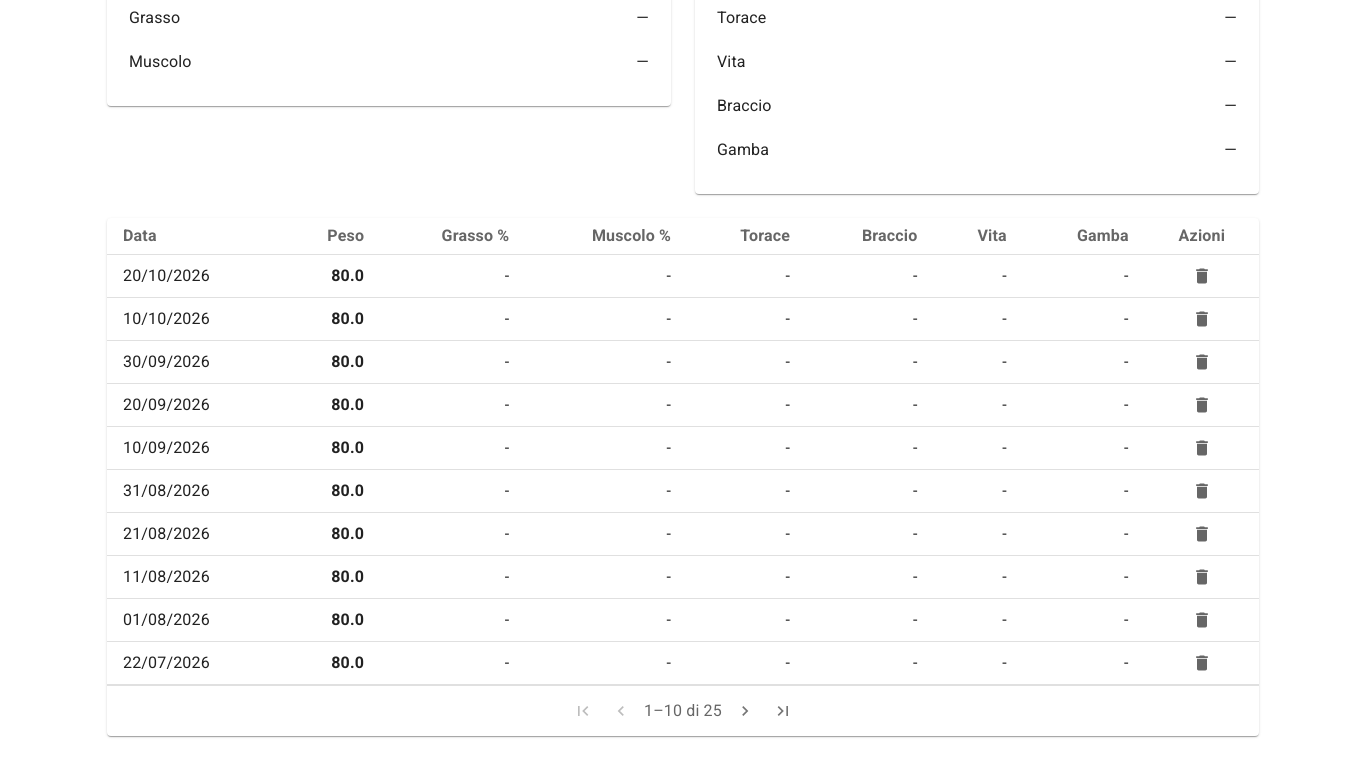
Test: storico a pagine › successive, ultima pagina e prima pagina
The image size is (1366, 768).
(page scrolled)
Click the button named "Pagina successiva".
click(745, 711)  # box 730,696 -> 760,726
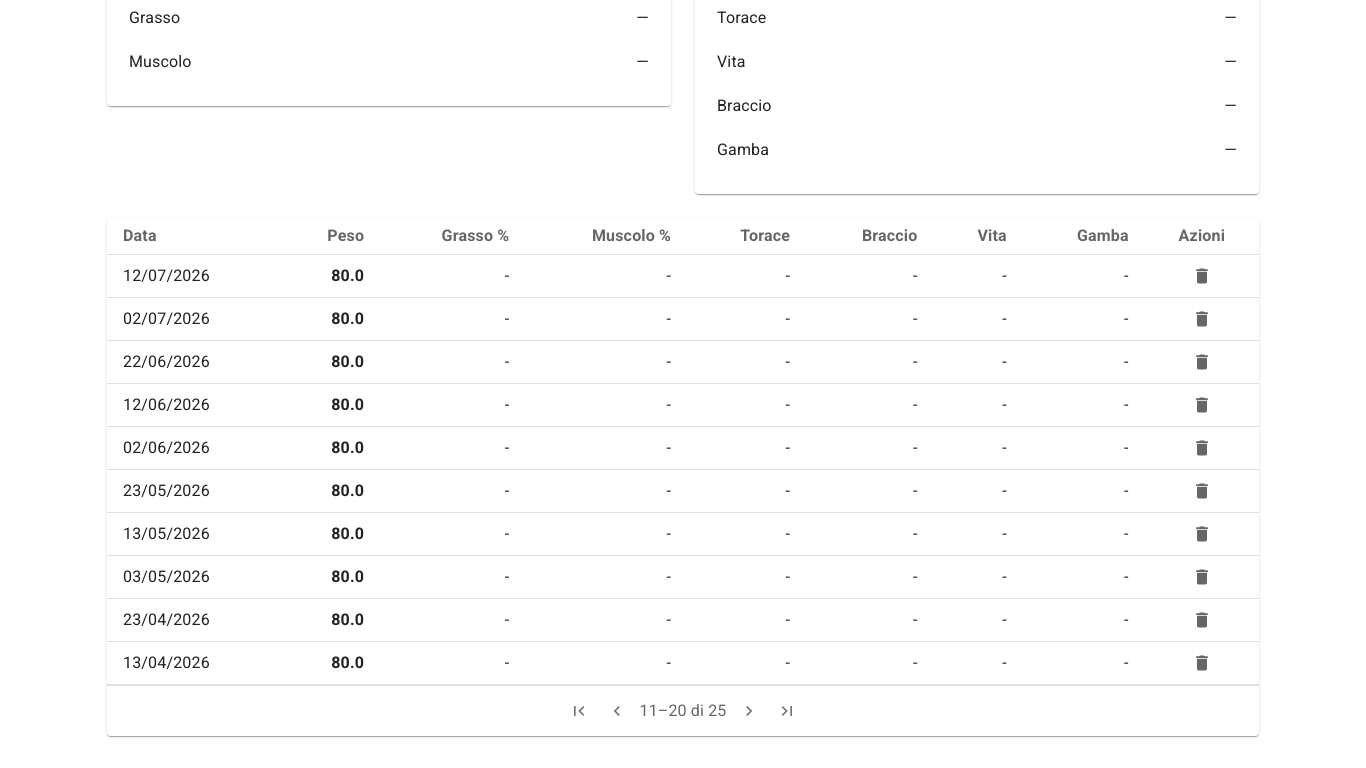
Check: the text "11–20 di 25" is shown, box 640,699 -> 726,723
Click the button named "Ultima pagina".
click(788, 711)  # box 772,696 -> 802,726
(page scrolled)
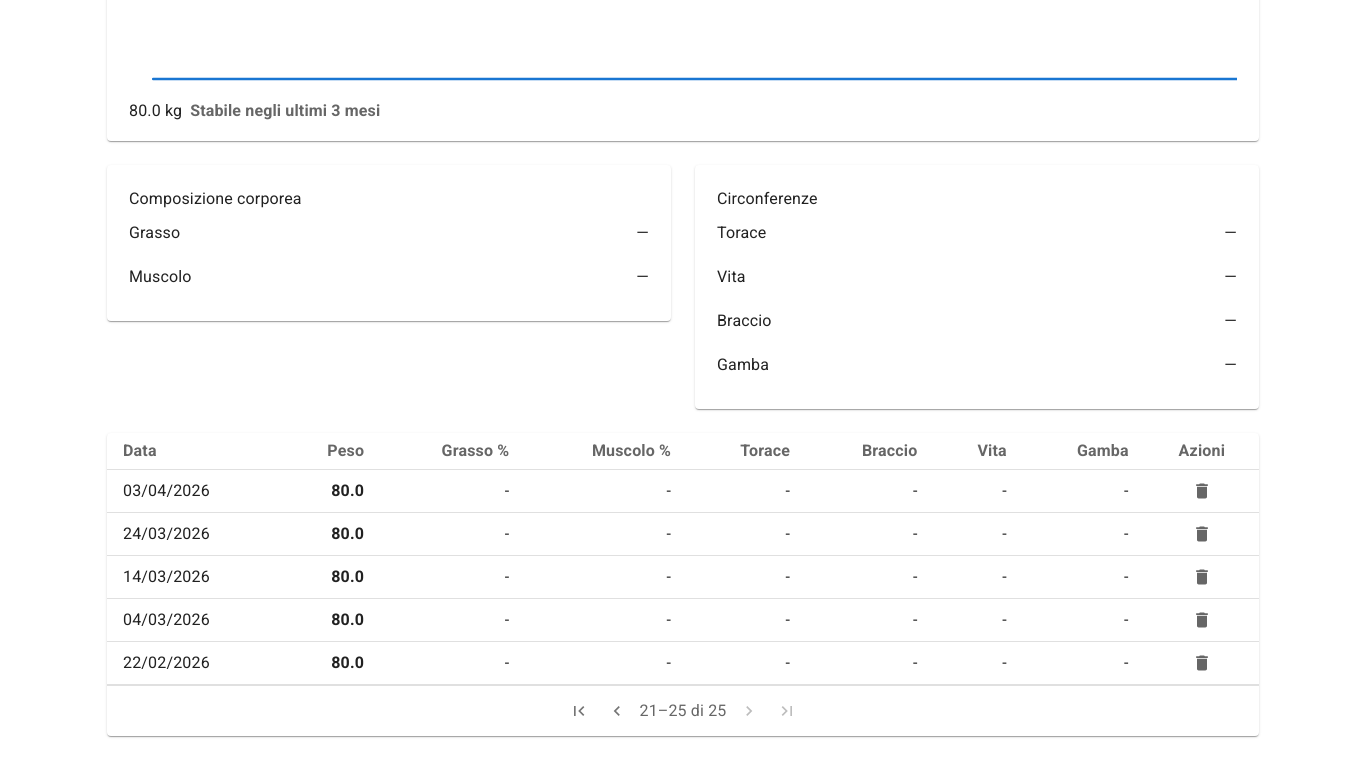
Check: the button named "Pagina successiva" is disabled, box 734,696 -> 764,726
Check: the text "21–25 di 25" is shown, box 640,699 -> 726,723
Click the button named "Prima pagina".
click(578, 711)  # box 564,696 -> 594,726
(page scrolled)
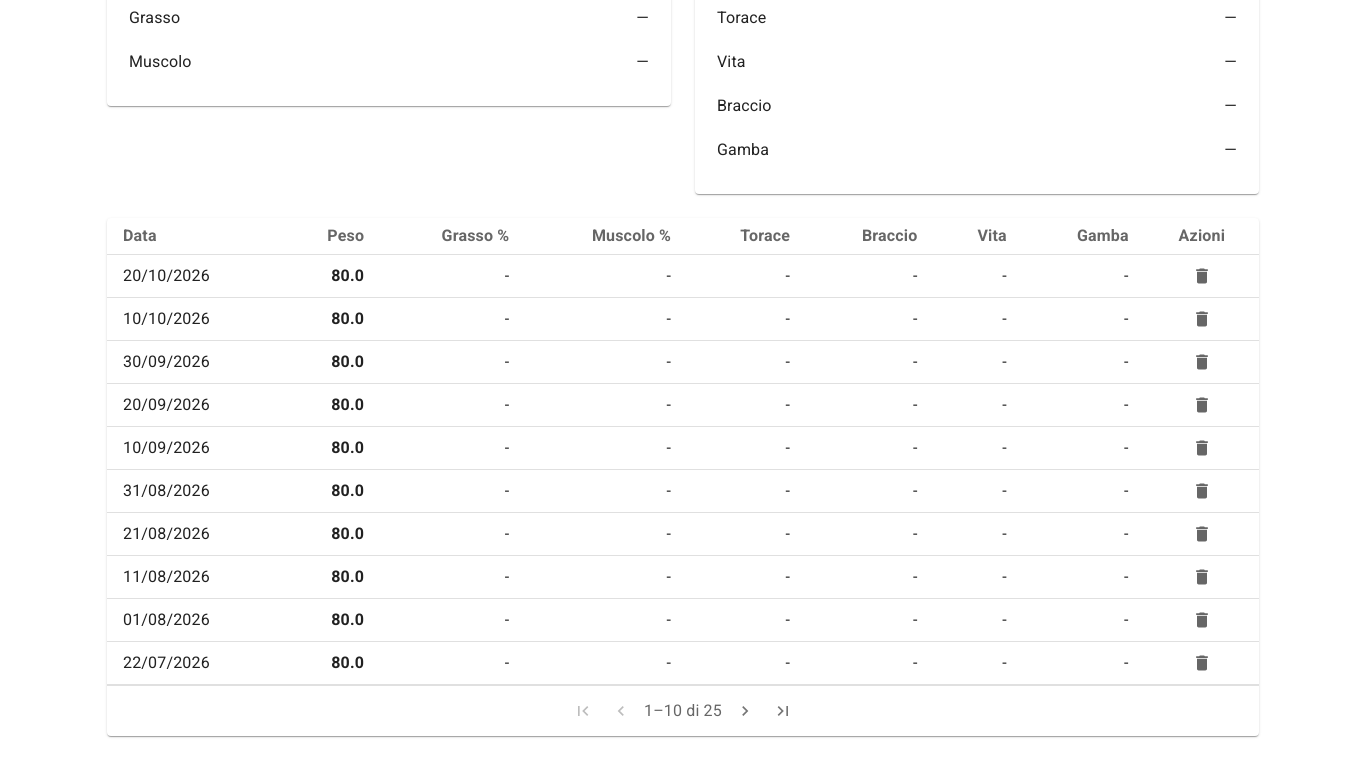
Check: the text "1–10 di 25" is shown, box 644,699 -> 722,723
